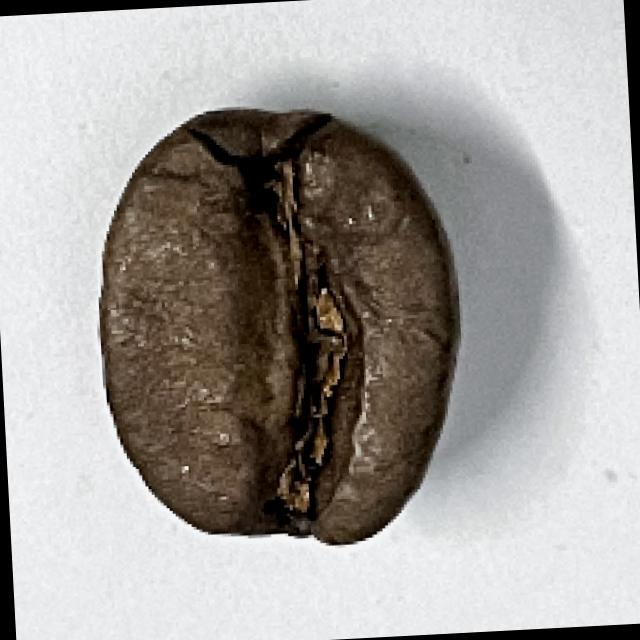bean: (85, 97, 476, 557)
